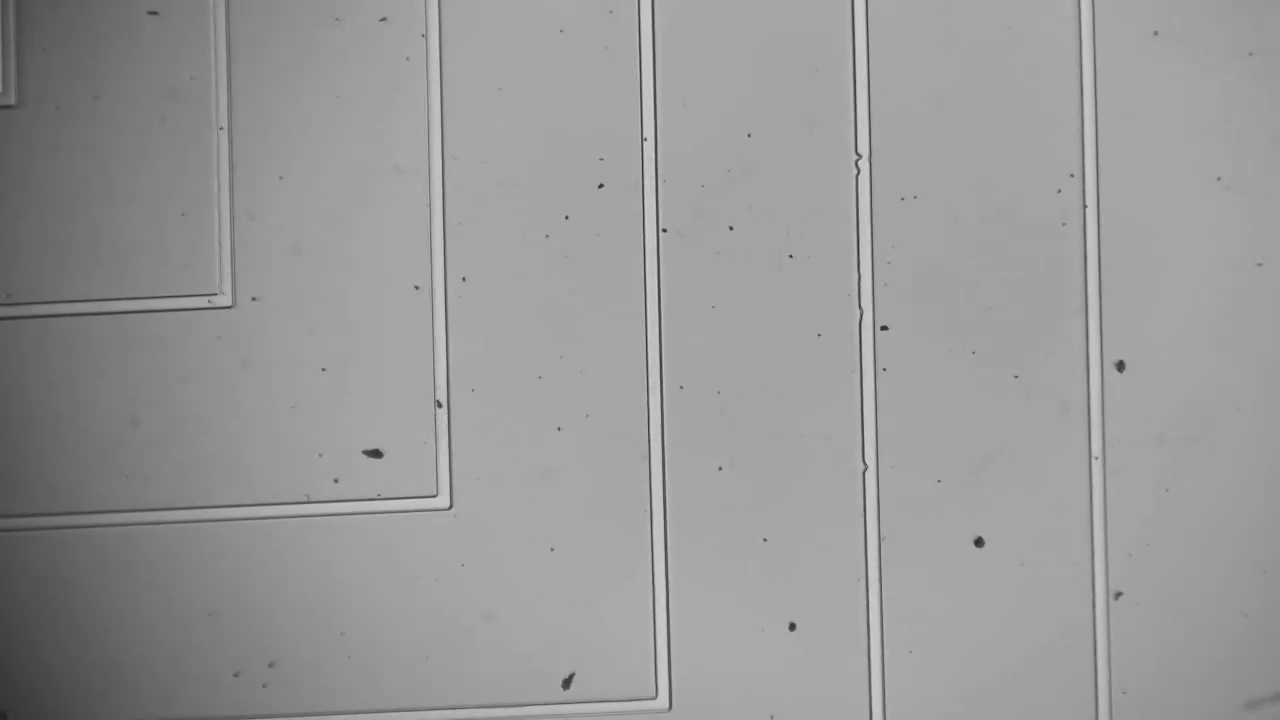edge_bite: (851, 299, 882, 331), (850, 146, 878, 177), (858, 459, 885, 485)
stains_enbedded: (427, 391, 456, 419)
